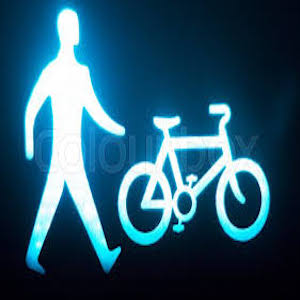green: (6, 6, 273, 282)
